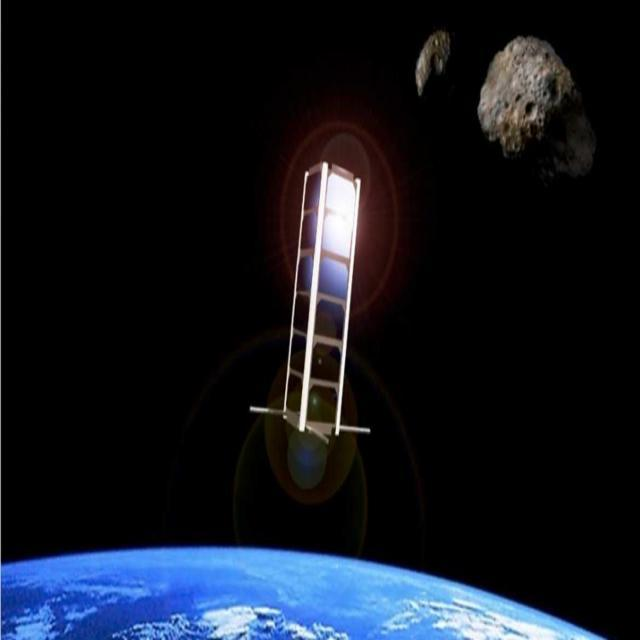sat: (254, 146, 384, 456)
